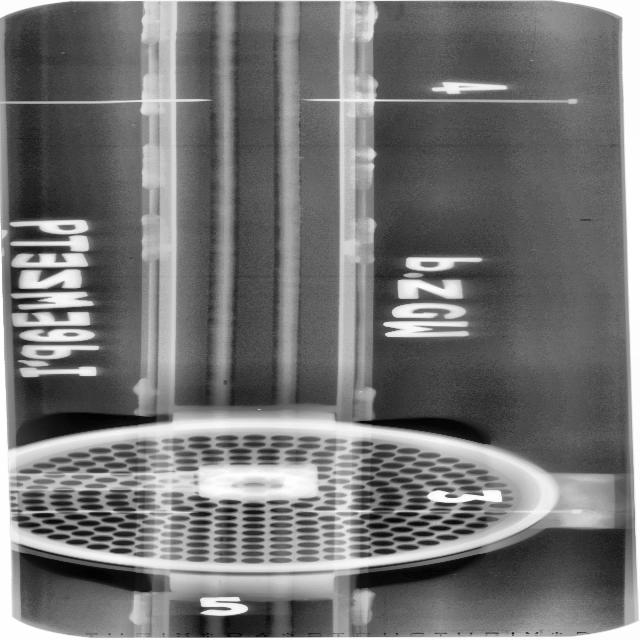porosity: (223, 380, 229, 386)
